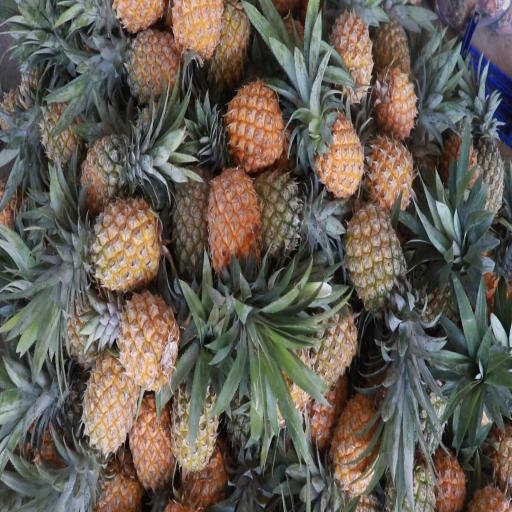------------------------------: (340, 194, 405, 323), (167, 354, 220, 479), (73, 131, 148, 215), (253, 168, 313, 264), (118, 28, 185, 112)
Pineapple - v8 v1: (74, 190, 168, 294), (200, 158, 264, 288), (112, 288, 181, 401), (81, 343, 140, 464), (330, 383, 390, 500), (298, 297, 365, 394), (226, 68, 286, 174), (304, 102, 368, 200), (360, 117, 416, 213), (124, 388, 176, 490), (320, 12, 378, 100), (368, 58, 421, 141), (169, 0, 225, 78)
